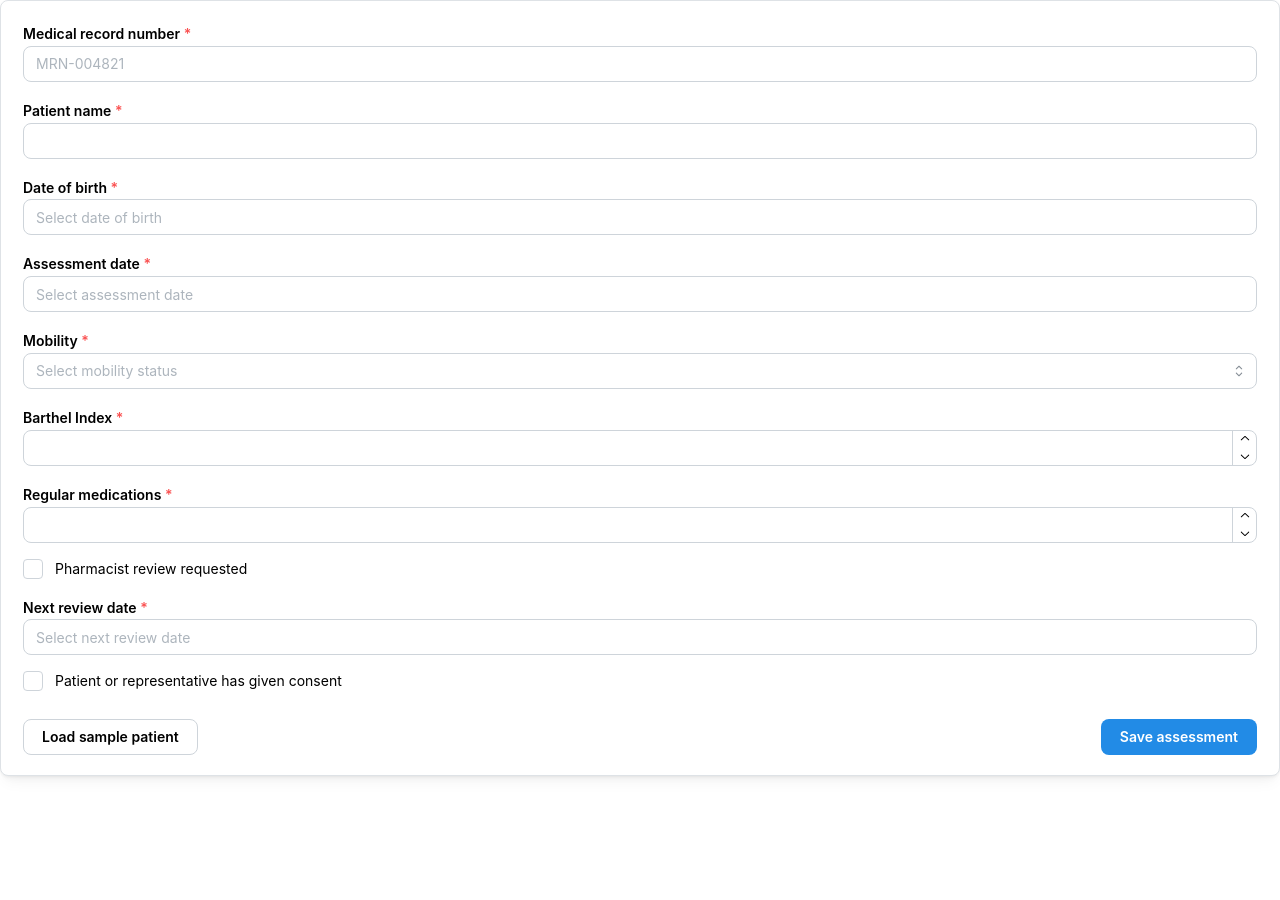
Test: AssessmentForm › does not save and shows the error under the field when consent is missing
The width and height of the screenshot is (1280, 900).
Click the button "Load sample patient".
click(110, 737)  # box [23,719,198,755]
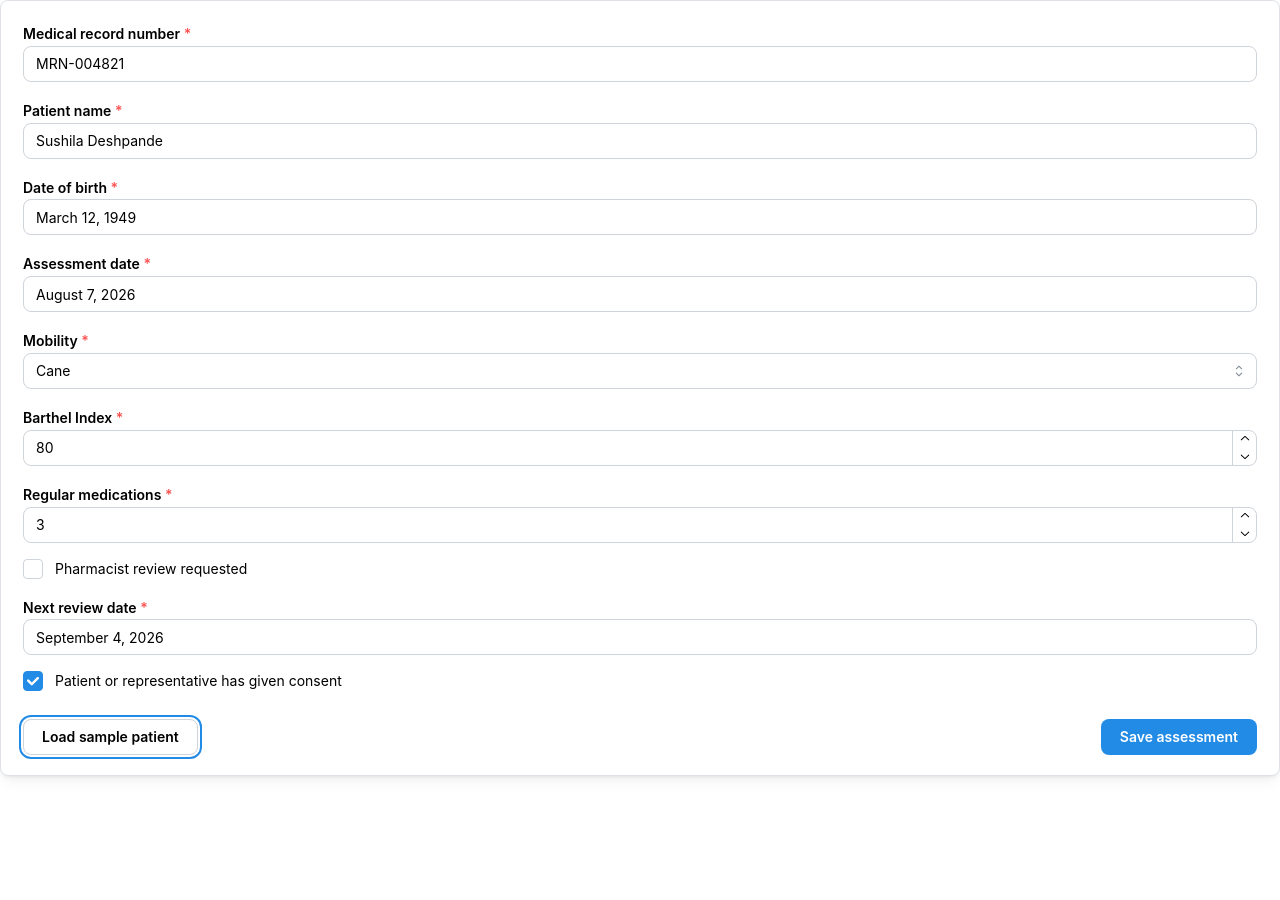
Click the checkbox labelled "Patient or representative has given consent".
click(33, 681)  # box [23,671,43,691]
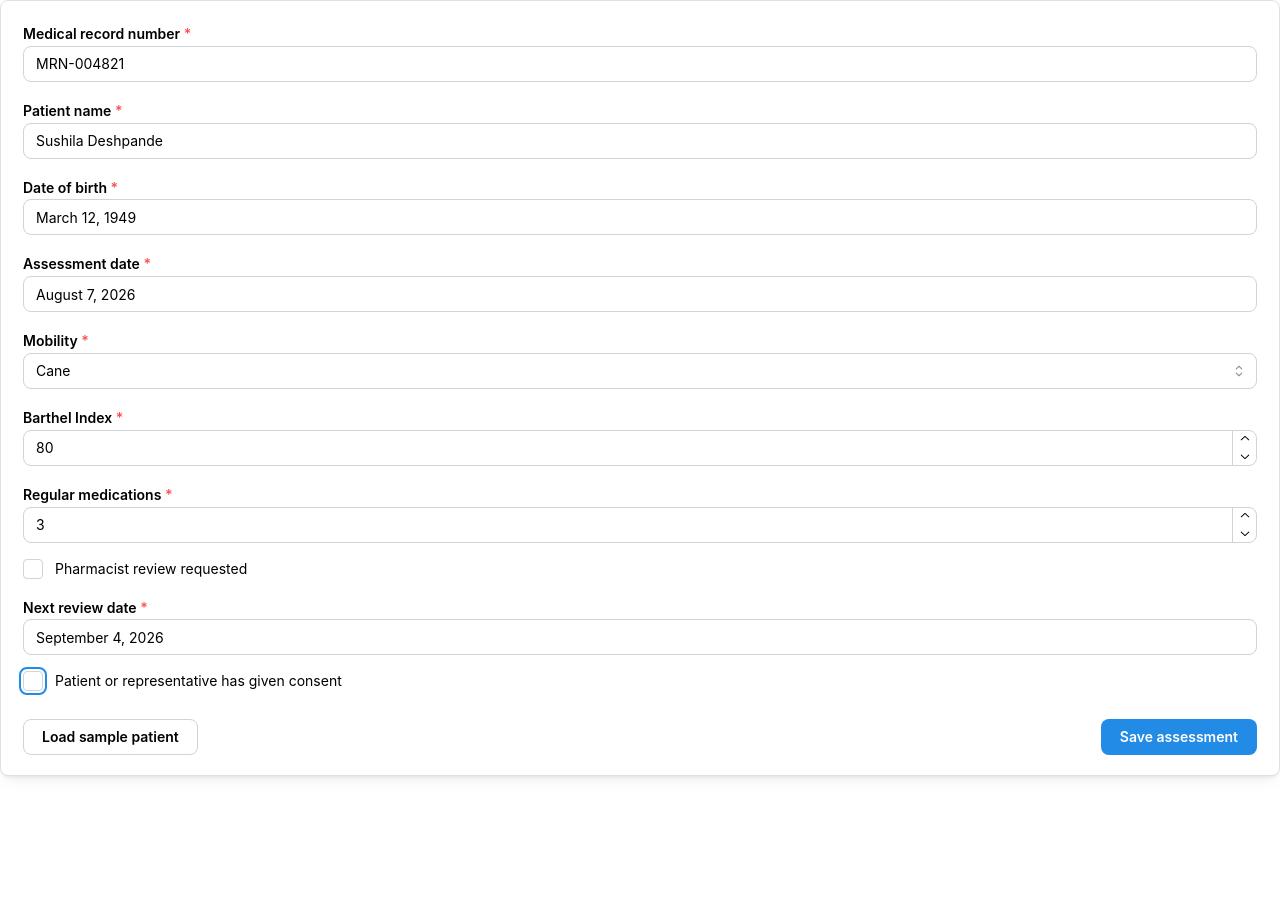
Click the button "Save assessment".
click(1179, 737)  # box [1101,719,1257,755]
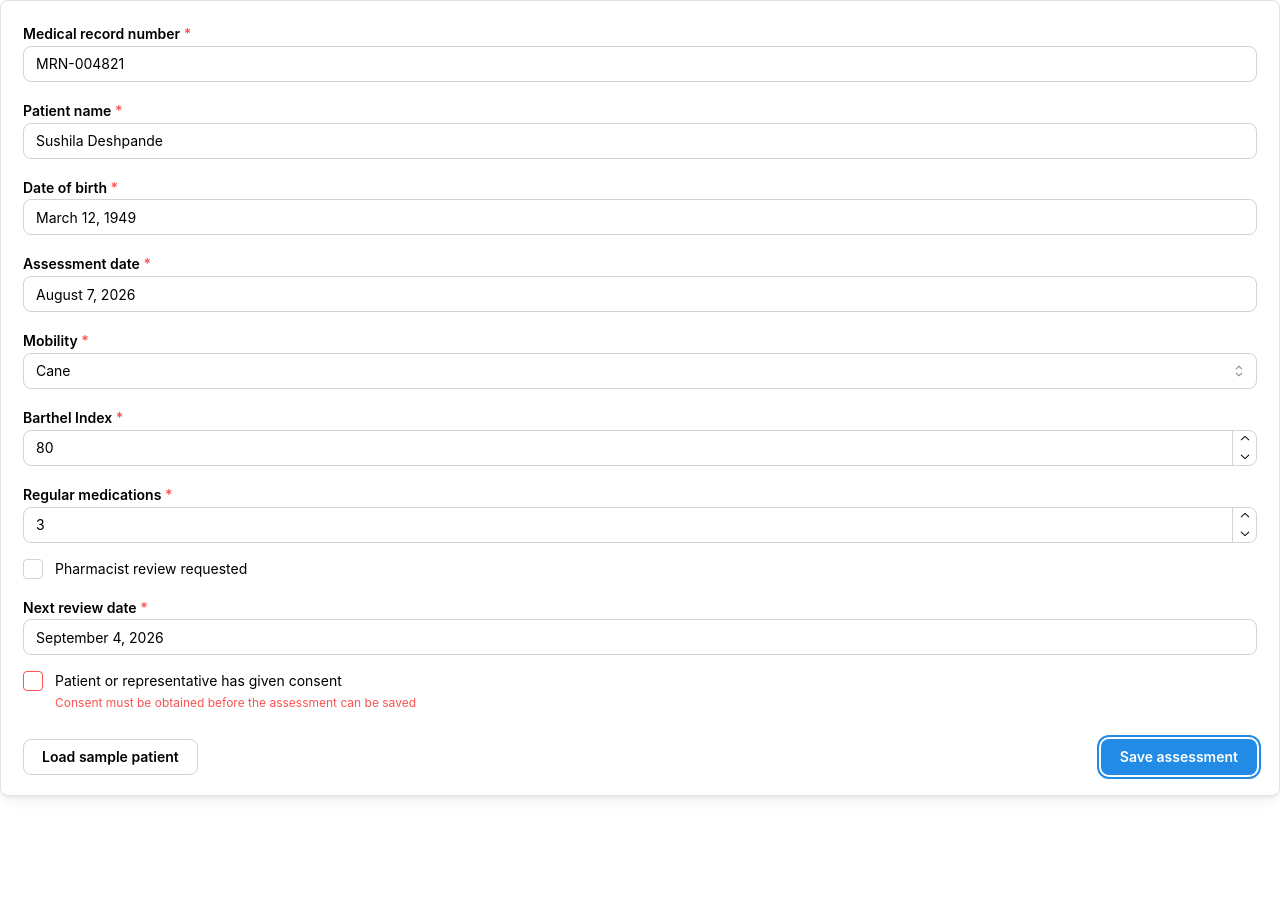
expect the text "Consent must be obtained before the assessment can be saved" is shown: met, box [43,696,416,711]
